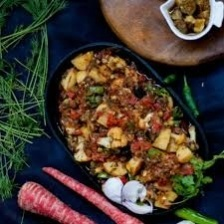sabzi: (60, 47, 203, 206)
